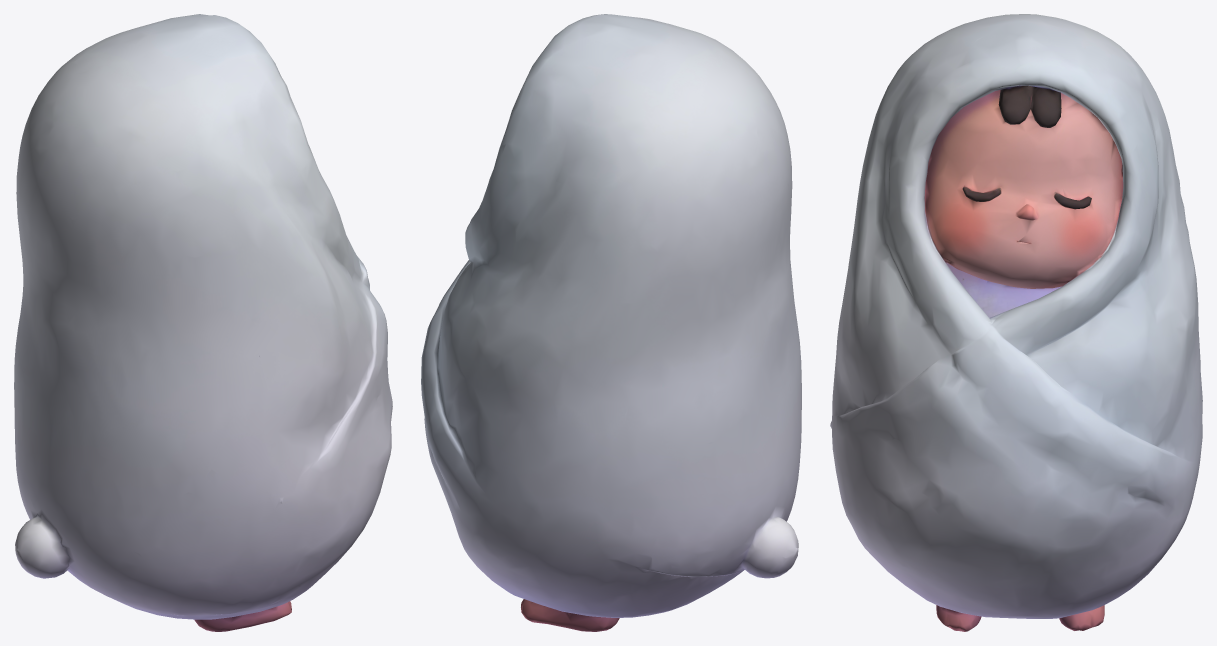
File: newborn.glb
The picture shows the model from 3 angles, left to right: view 1: azimuth 30°, elevation 25°; view 2: azimuth 150°, elevation 25°; view 3: azimuth 270°, elevation 25°; orthographic projection.
Parts seen in each view (by area): view 1: node_cccafdb5-6e57-4382-a462-d64e6552f039; view 2: node_cccafdb5-6e57-4382-a462-d64e6552f039; view 3: node_cccafdb5-6e57-4382-a462-d64e6552f039.
Boxes of the visible parts, left/top/right/bottom form: node_cccafdb5-6e57-4382-a462-d64e6552f039: left=14, top=14, right=392, bottom=631; node_cccafdb5-6e57-4382-a462-d64e6552f039: left=421, top=14, right=801, bottom=631; node_cccafdb5-6e57-4382-a462-d64e6552f039: left=830, top=14, right=1202, bottom=631.
Size of the model in its own units: 0.6448 by 1 by 0.5968.
1 material, 1 textured.
